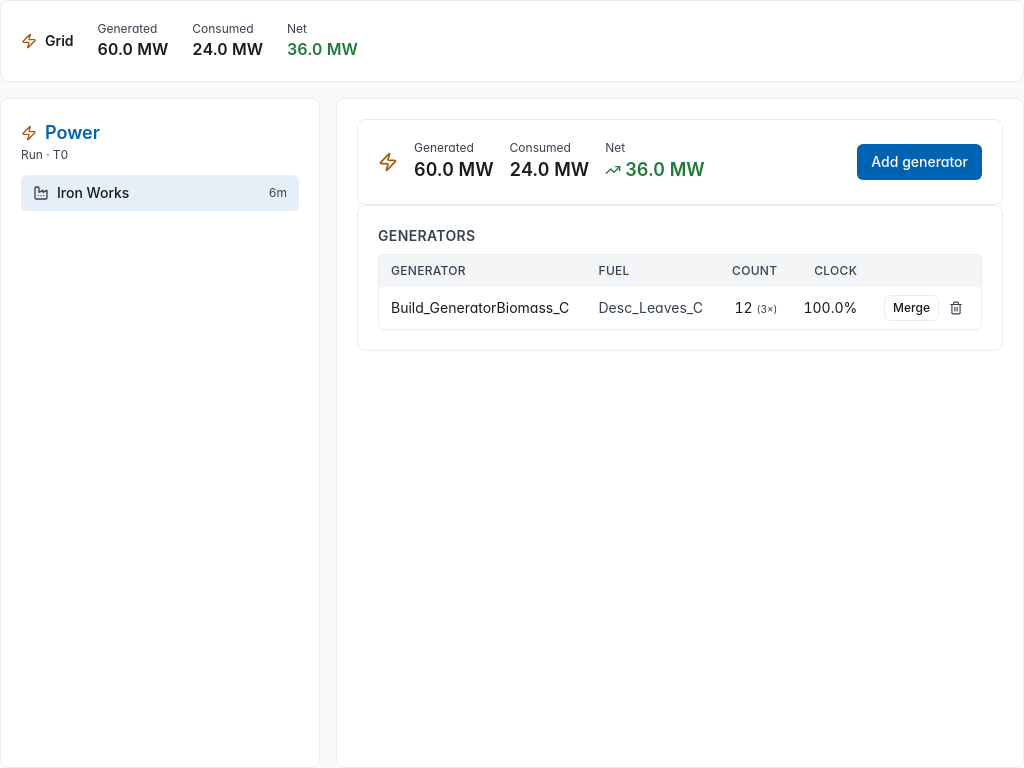
Test: <PowerView /> › says the counts merged when a delete fails afterwards, not that the merge failed
Check: the text "12" is shown, box top-left (734, 299), bottom-right (753, 316)
Click the button "Merge" at (912,308), box top-left (884, 295), bottom-right (939, 321)
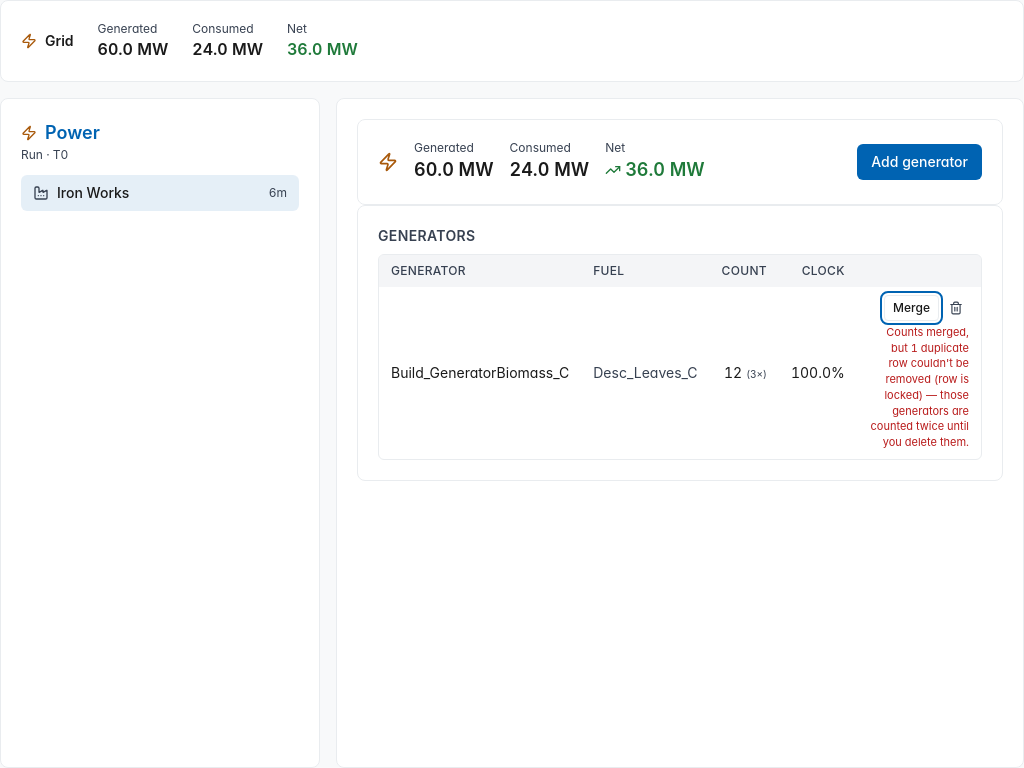
Check: the message shows "Counts merged", box top-left (870, 325), bottom-right (969, 449)
Check: the message shows "1 duplicate row couldn't be removed", box top-left (870, 325), bottom-right (969, 449)
Check: the message shows "counted twice", box top-left (870, 325), bottom-right (969, 449)
